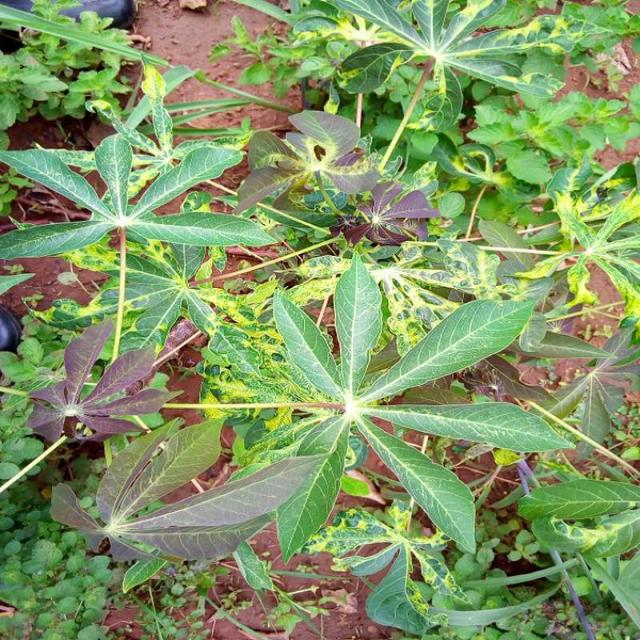Mosaico: (157, 306, 315, 465), (82, 223, 272, 345), (299, 248, 507, 358), (532, 159, 640, 336)
